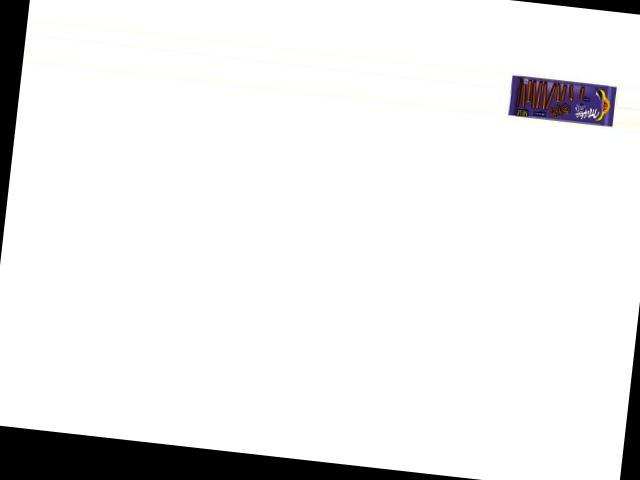chocolate: (505, 69, 618, 127)
